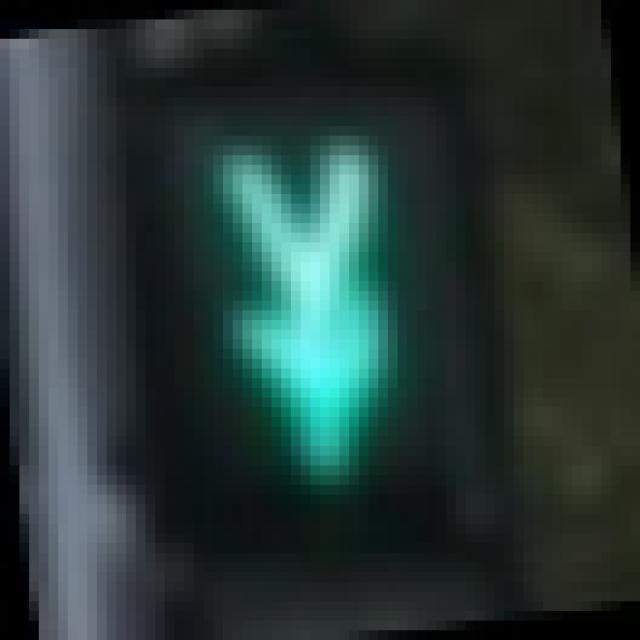green_light: (107, 68, 494, 543)
